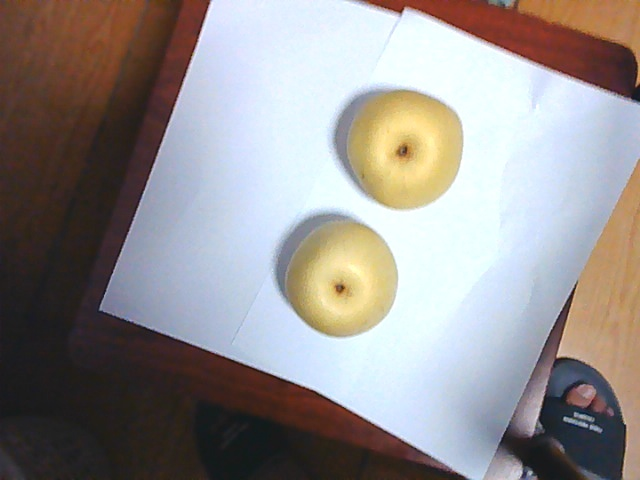pear: (284, 213, 402, 336), (345, 89, 461, 210)
